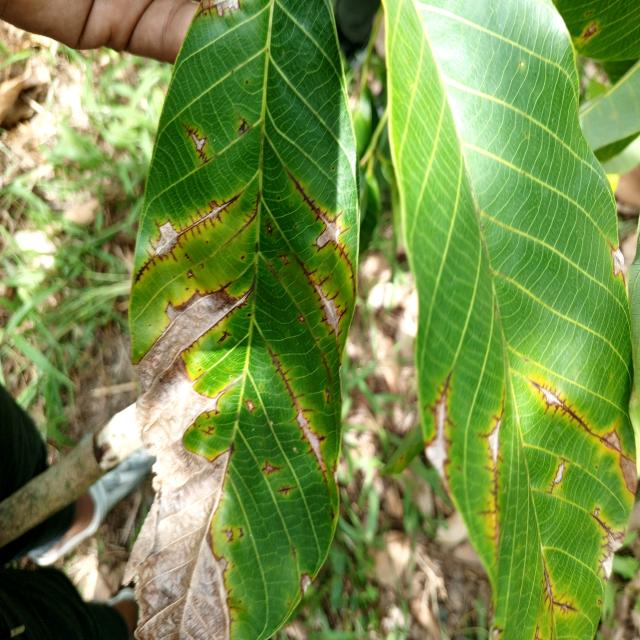Colletotrichum: (297, 314, 304, 323), (277, 196, 280, 200), (246, 80, 248, 84)
Corynespora: (135, 188, 245, 286), (286, 166, 356, 296), (293, 254, 347, 364), (476, 387, 506, 562), (424, 370, 458, 483), (528, 378, 592, 436), (266, 348, 304, 413), (293, 416, 328, 484), (182, 122, 213, 167), (226, 279, 256, 317), (591, 512, 625, 544), (241, 188, 260, 232), (542, 558, 554, 615), (551, 594, 580, 614), (194, 1, 218, 23), (596, 549, 613, 577), (261, 461, 285, 475), (236, 111, 248, 135), (320, 351, 330, 378), (220, 527, 235, 542), (274, 485, 296, 495), (217, 329, 232, 342), (200, 425, 216, 437), (263, 220, 274, 236), (546, 480, 559, 492)
Leaf-Blight: (121, 286, 238, 640), (611, 247, 625, 276), (302, 574, 312, 594)
